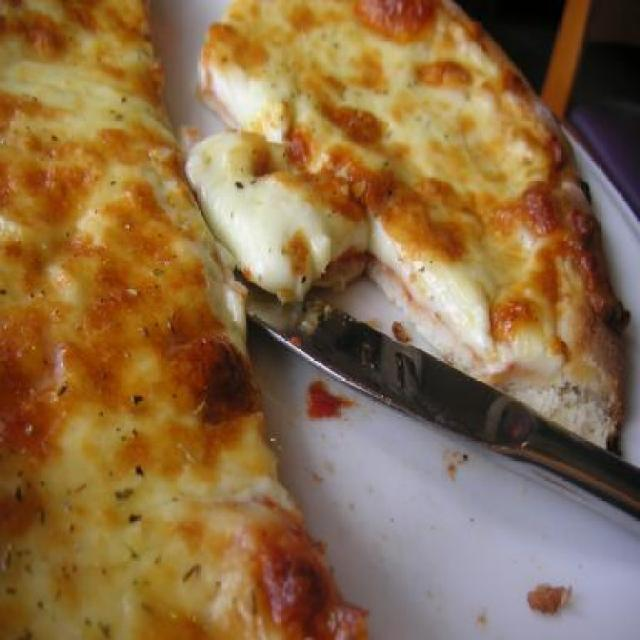Pizza: (4, 0, 367, 638), (210, 0, 609, 475)
